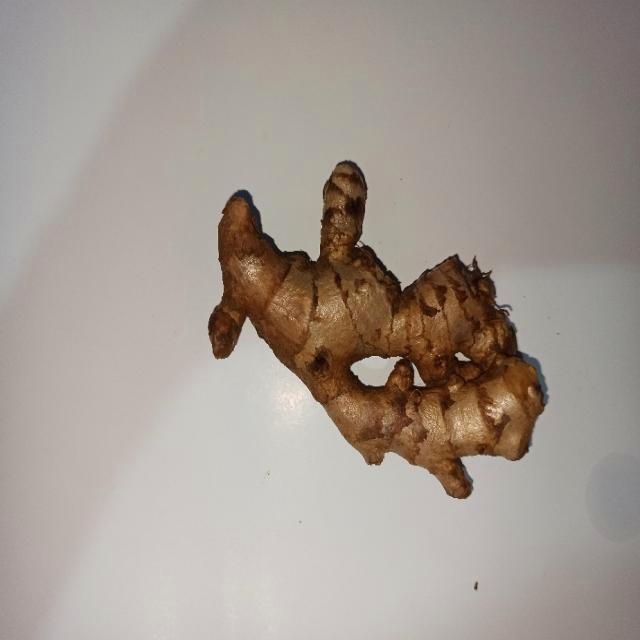ginger: (207, 159, 547, 502)
